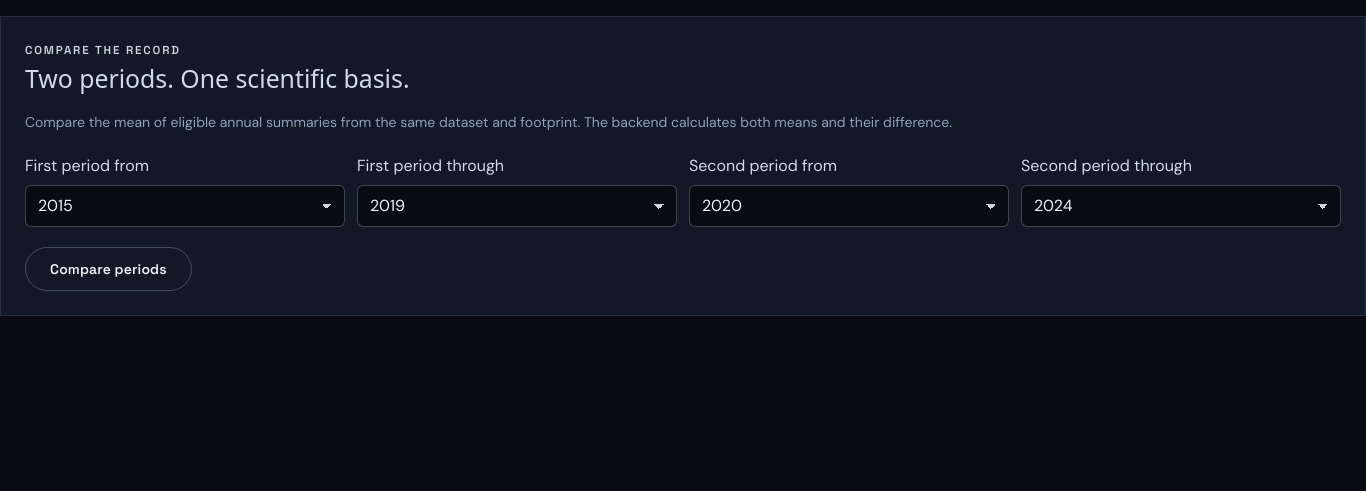
Test: Backend-driven feature contracts › shows a changed-evidence error without displaying a numeric comparison
What coordinates should you click on to do the following:
click the button "Compare periods"
I would click on:
 (108, 269)
Its box is [25,247,192,291].
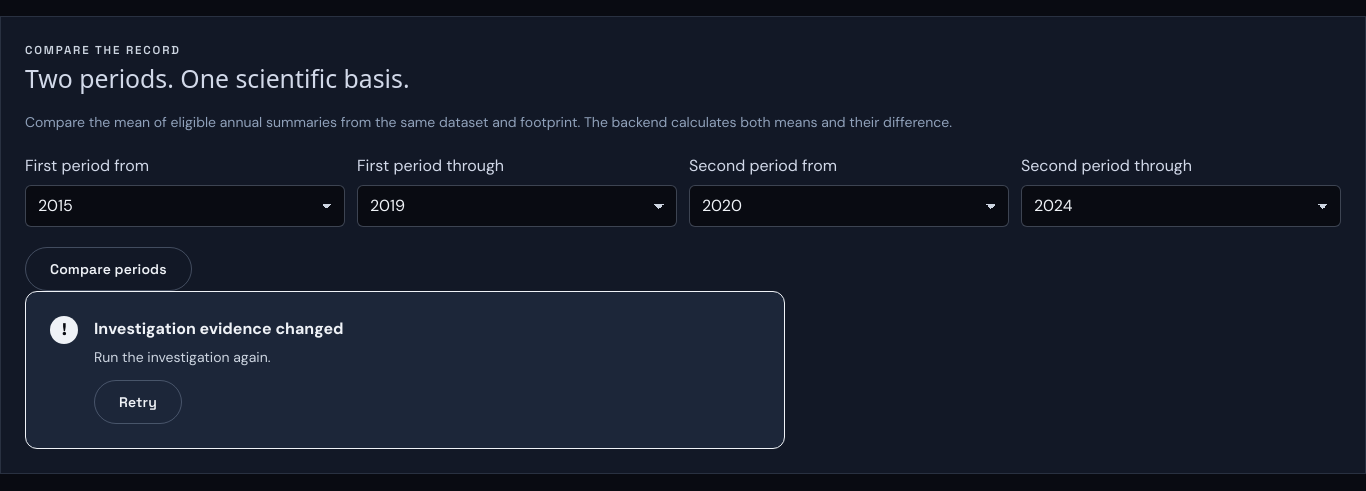
expect the text "Investigation evidence changed" is shown: met, box [94,318,344,339]
